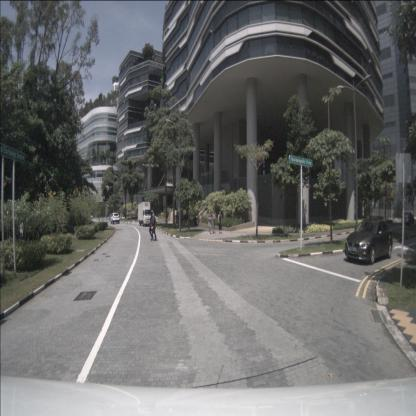human-pedestrian-adult: (150, 212, 157, 241), (148, 211, 154, 239), (19, 220, 24, 245), (211, 209, 216, 233), (207, 210, 212, 234), (218, 210, 222, 233), (181, 212, 184, 226), (189, 214, 192, 225)
vehicle-car: (344, 219, 392, 265), (401, 211, 415, 225), (110, 213, 120, 224)
vehicle-truck: (138, 201, 152, 226)
